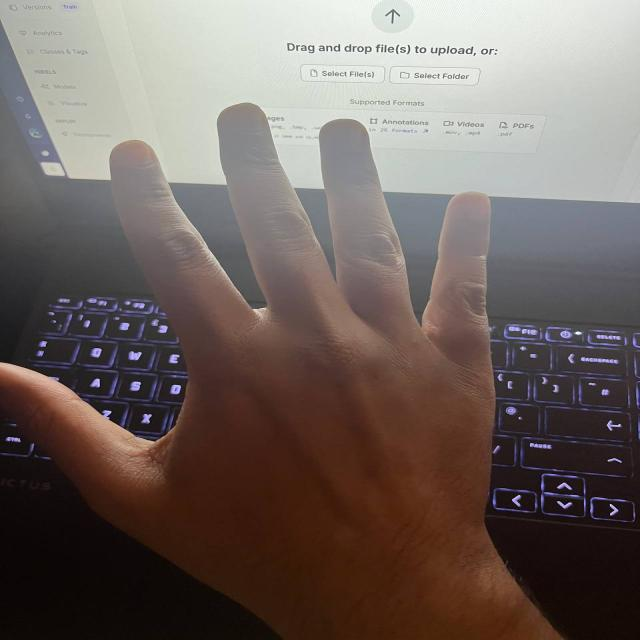hand palm open: (4, 110, 515, 587)
